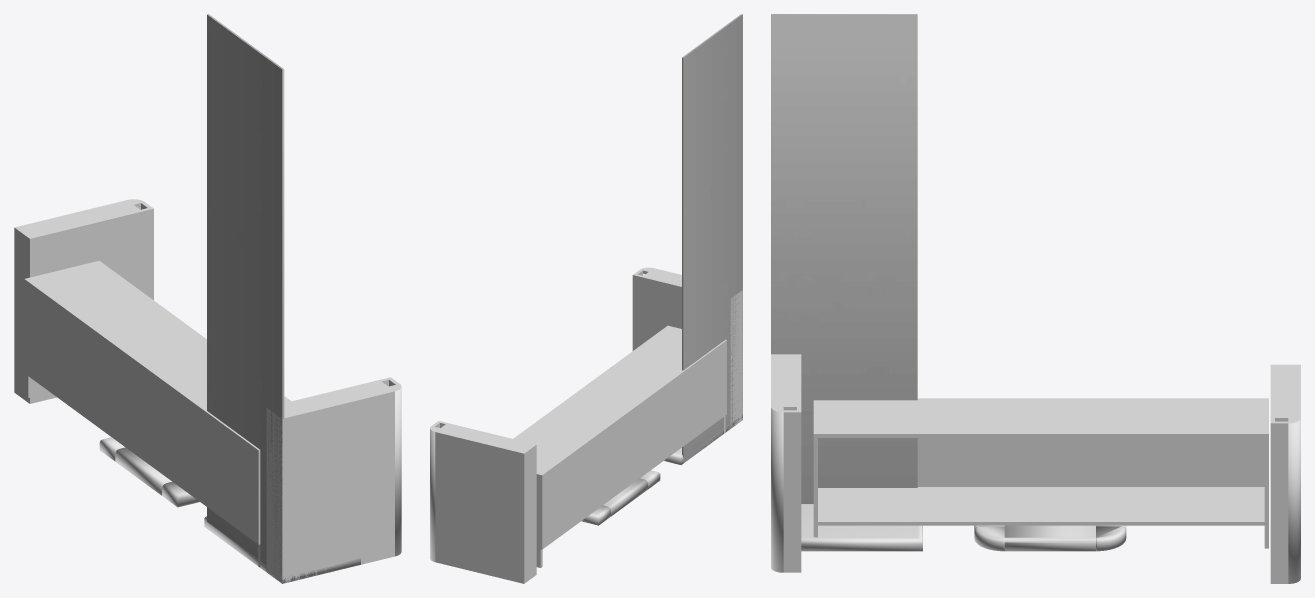
Rendered from DON-NGOI-BO-CONG-VACH-LAM-VA-GUONG-UV.glb.
3 renders of one model, left to right at view 1: azimuth 30°, elevation 25°; view 2: azimuth 150°, elevation 25°; view 3: azimuth 270°, elevation 25°, orthographic. The views are drawn at different scales.
Visible parts, largest first — view 1: GUONG, HAU, BCT-BIA-TRAI, NOC, BCP-BIA-TRAI, BCT-HAU, BCP-HAU, BCP-NOC-3, BCT-NOC-3, BCT-BIA-BO-CONG, NEM-NGOI-1, NEM-NGOI-DON (+3 smaller); view 2: GUONG, HAU, BCP-BIA-PHAI, NOC, BCT-BIA-PHAI, BCP-HAU, BCT-HAU, BCP-BIA-BO-CONG, BCP-NOC-3, NEM-NGOI-1, BCP-BIA-TRAI, BIA-PHAI; view 3: GUONG, NOC, DAY, HAU, NEM-NGOI-DON, BCT-TRU-HAO-BO-CONG, BCP-TRU-HAO-BO-CONG, NEM-NGOI-1, BCP-BIA-BO-CONG, BCT-BIA-BO-CONG, BCP-NOC-3, BCT-NOC-3 (+2 smaller).
Part boxes in pixels (bbox=[...]): GUONG: bbox=[207, 14, 284, 582]; HAU: bbox=[24, 283, 260, 544]; BCT-BIA-TRAI: bbox=[280, 389, 394, 583]; NOC: bbox=[24, 260, 290, 454]; BCP-BIA-TRAI: bbox=[27, 208, 150, 403]; BCT-HAU: bbox=[269, 409, 279, 580]; BCP-HAU: bbox=[16, 228, 31, 401]; BCP-NOC-3: bbox=[21, 201, 139, 236]; BCT-NOC-3: bbox=[284, 381, 392, 415]; BCT-BIA-BO-CONG: bbox=[393, 384, 401, 556]; NEM-NGOI-1: bbox=[115, 447, 171, 495]; NEM-NGOI-DON: bbox=[204, 516, 360, 583]; GUONG: bbox=[682, 14, 742, 463]; HAU: bbox=[540, 343, 726, 549]; BCP-BIA-PHAI: bbox=[435, 431, 525, 583]; NOC: bbox=[513, 325, 726, 478]; BCT-BIA-PHAI: bbox=[635, 274, 732, 428]; BCP-HAU: bbox=[523, 445, 534, 582]; BCT-HAU: bbox=[732, 291, 740, 425]; BCP-BIA-BO-CONG: bbox=[430, 426, 436, 561]; BCP-NOC-3: bbox=[437, 424, 531, 451]; NEM-NGOI-1: bbox=[603, 478, 647, 516]; BCP-BIA-TRAI: bbox=[440, 421, 536, 575]; BIA-PHAI: bbox=[536, 477, 542, 567]; GUONG: bbox=[771, 14, 917, 503]; NOC: bbox=[813, 398, 1268, 437]; DAY: bbox=[818, 487, 1264, 525]; HAU: bbox=[917, 438, 1264, 486]; NEM-NGOI-DON: bbox=[801, 504, 922, 551]; BCT-TRU-HAO-BO-CONG: bbox=[783, 410, 801, 572]; BCP-TRU-HAO-BO-CONG: bbox=[1270, 421, 1288, 583]; NEM-NGOI-1: bbox=[1004, 525, 1095, 551]; BCP-BIA-BO-CONG: bbox=[1288, 418, 1300, 583]; BCT-BIA-BO-CONG: bbox=[771, 407, 783, 572]; BCP-NOC-3: bbox=[1275, 366, 1296, 421]; BCT-NOC-3: bbox=[775, 355, 796, 410].
Size of the model in its own units: 0.5783 by 2.22 by 2.09.
10 materials, 1 textured.
